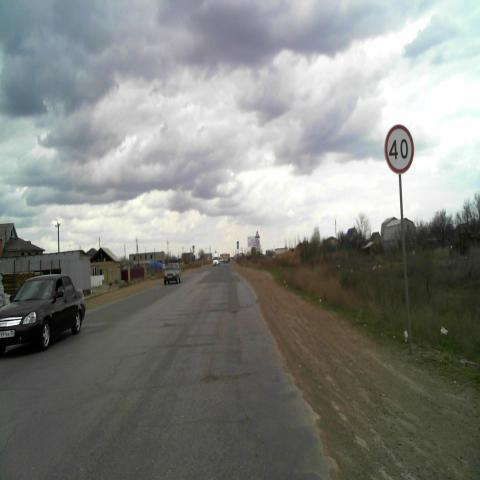3_24: (384, 123, 414, 174)
